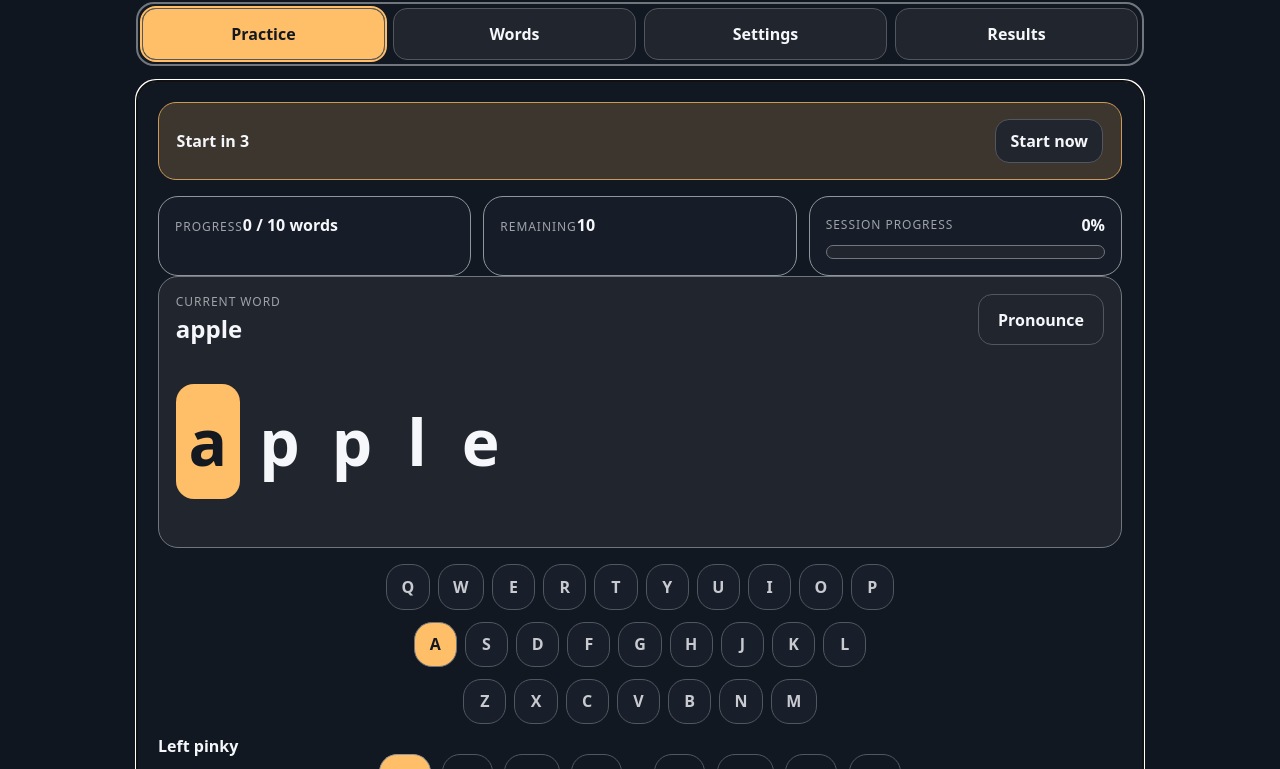
Test: App › edits a builtin word
Click the button "Words" at (514, 34), box [393,8,636,60]
(page scrolled)
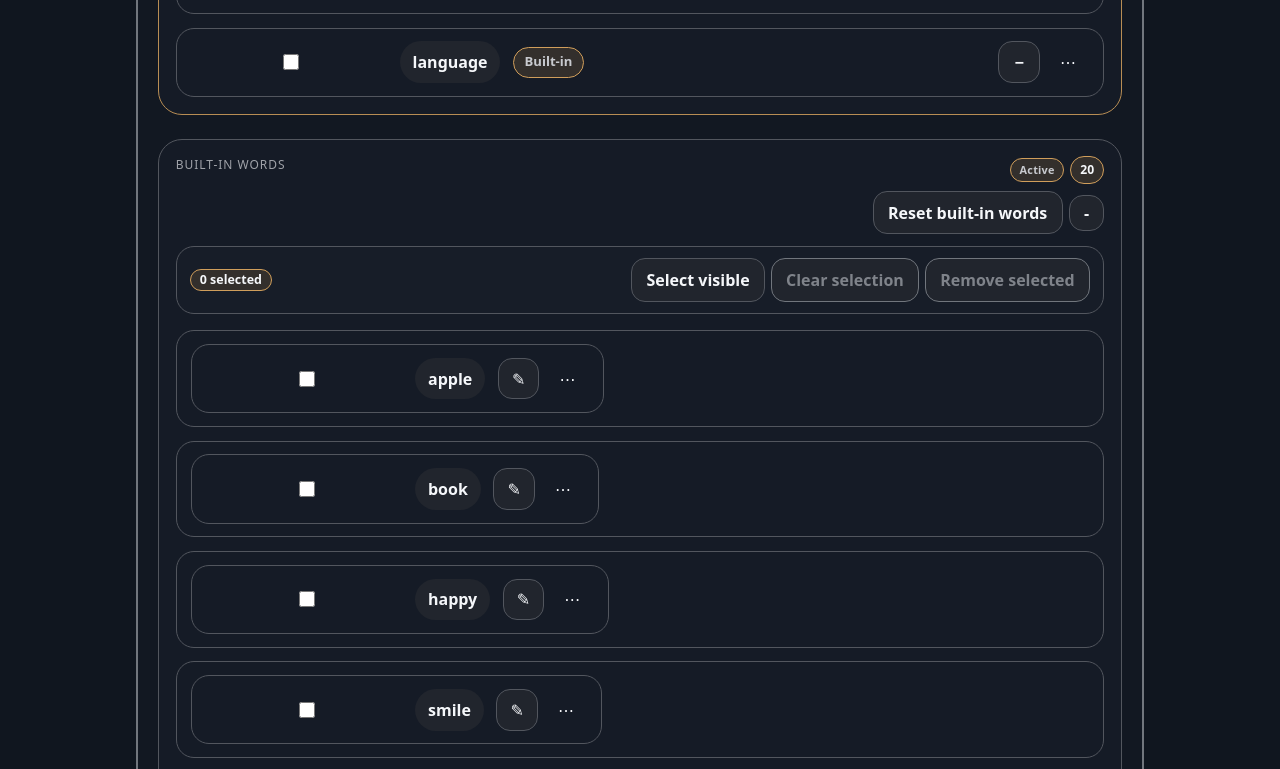
Click the button with test id "edit-word-button-builtin-apple" at (519, 379), box [498,358,539,399]
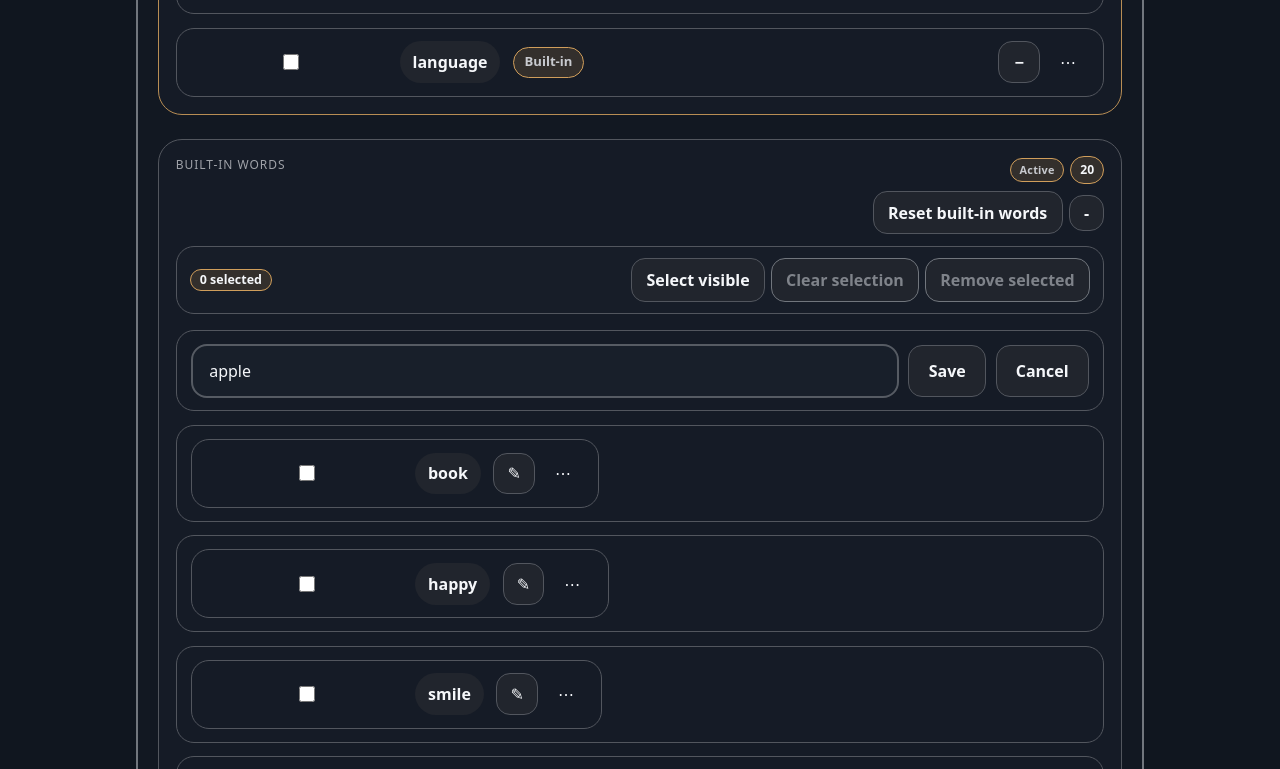
Replace the text in the field with test id "edit-word-input-builtin-apple" with "apricot" at (545, 371), box [191,344,899,398]
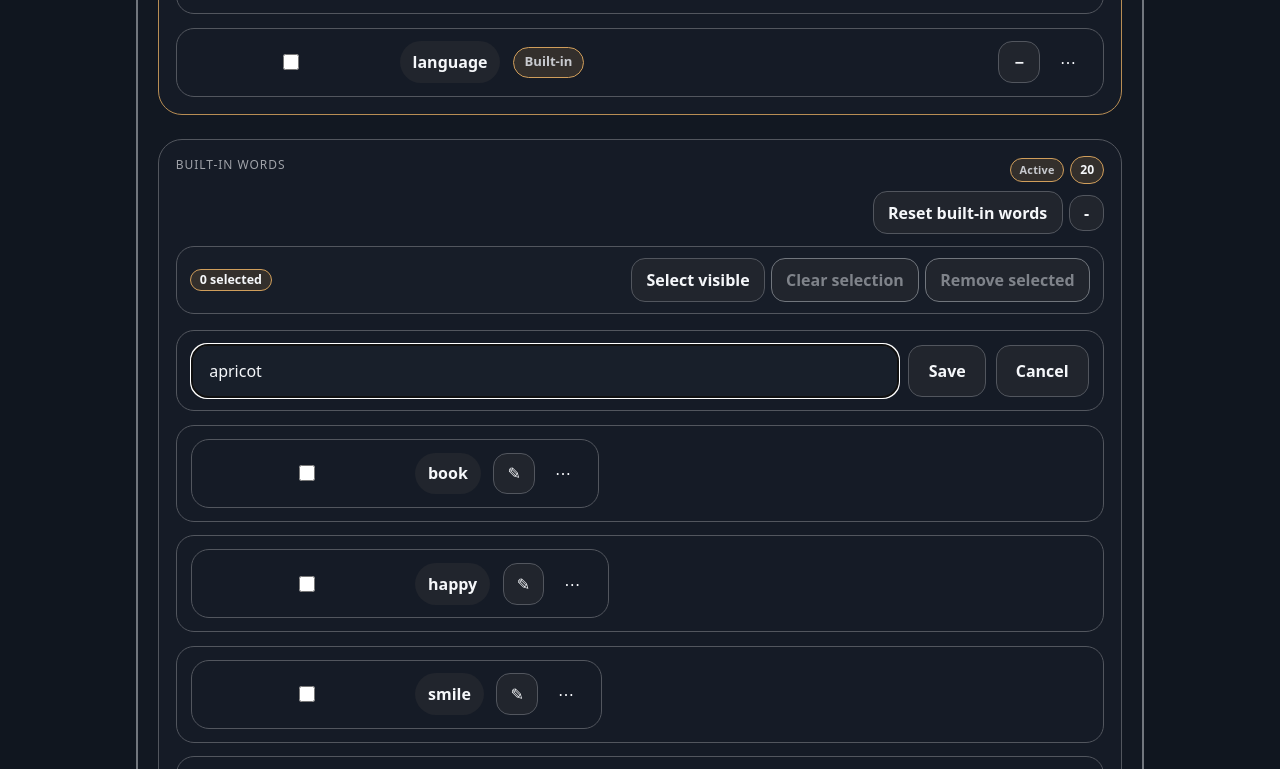
Click the button with test id "save-word-button-builtin-apple" at (947, 371), box [908,345,986,397]
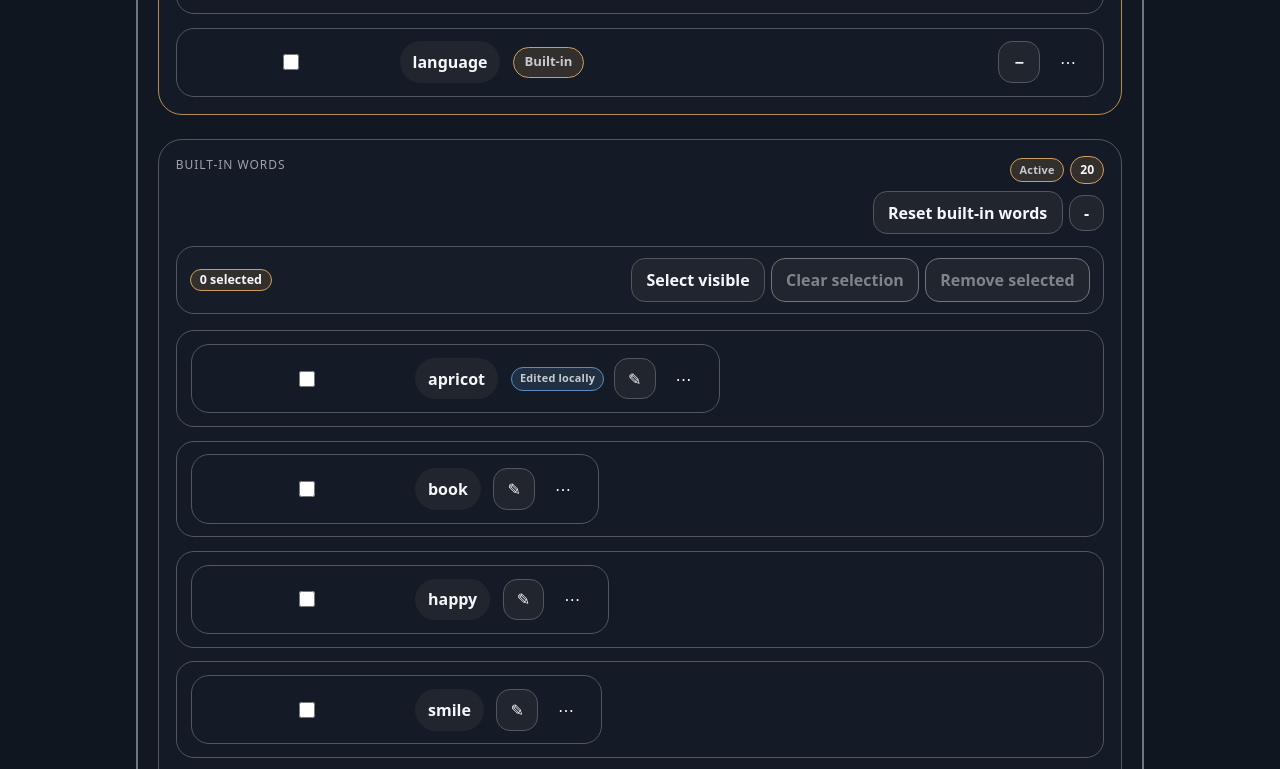
Result: the element with test id "builtin-word-list" shows "apricot" at [428,368,485,390]
Result: the text with test id "builtin-word-state-builtin-apple" reads "Edited locally" at [520,370,595,385]
